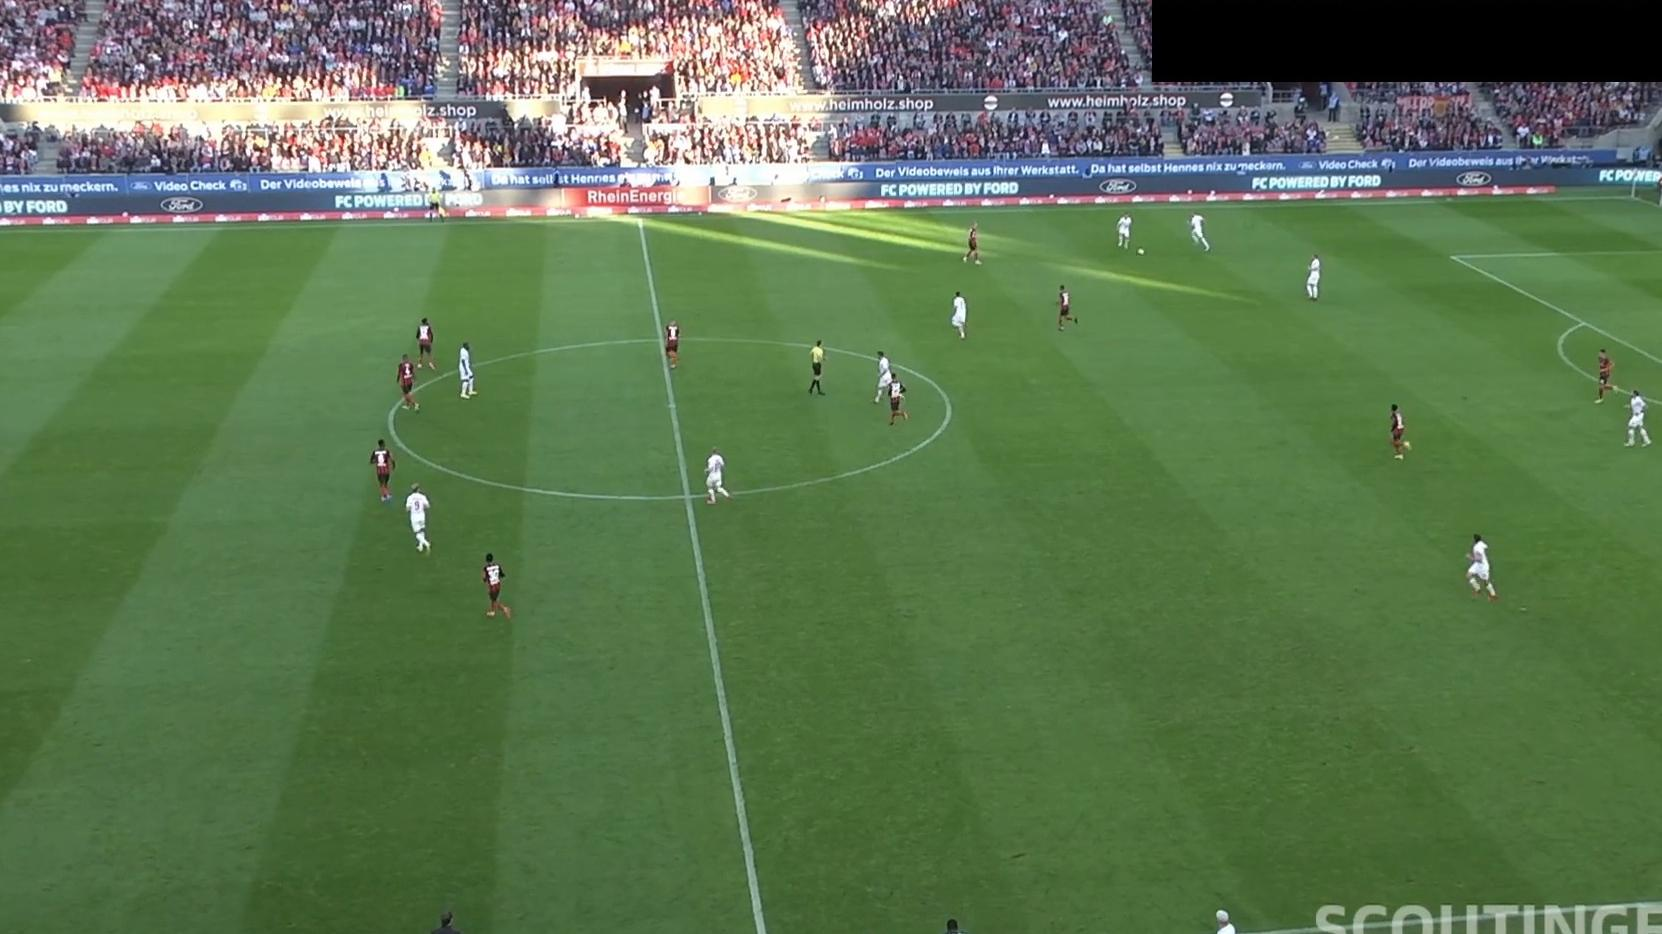ball: (1137, 247, 1146, 256)
